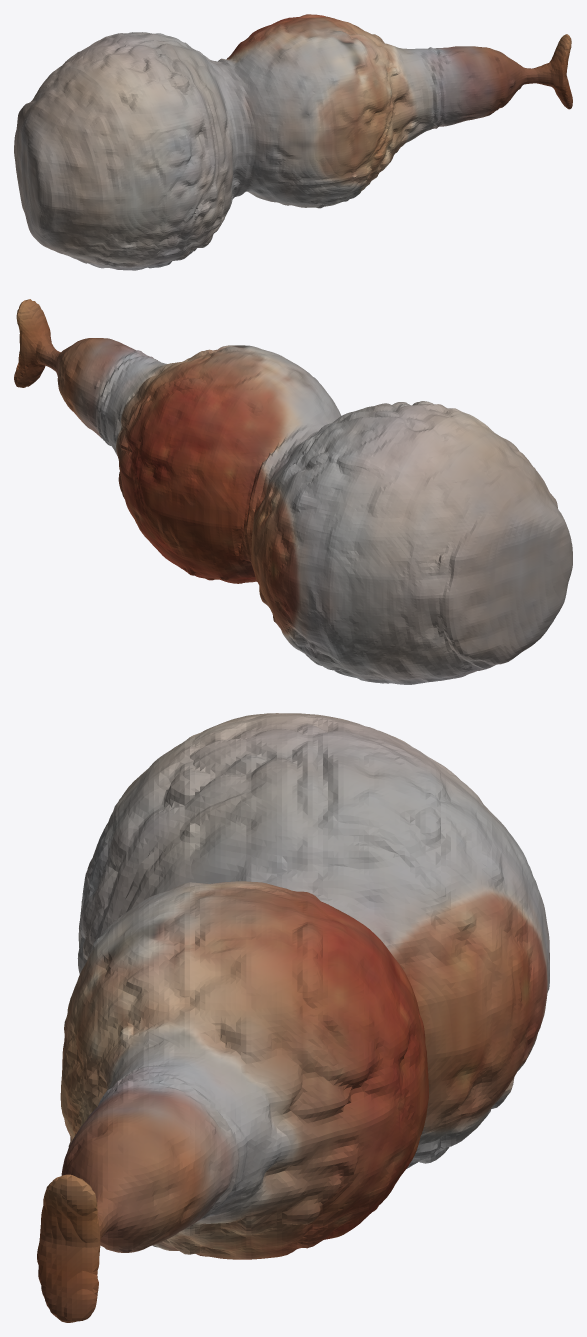
3 views of the same model, one above another, from view 1: azimuth 30°, elevation 25°; view 2: azimuth 150°, elevation 25°; view 3: azimuth 270°, elevation 25° (orthographic). The views are drawn at different scales.
Parts seen in each view (by area): view 1: geometry_0; view 2: geometry_0; view 3: geometry_0.
Part boxes in pixels (x1=…): geometry_0: x1=14, y1=14, x2=572, y2=270; geometry_0: x1=14, y1=299, x2=572, y2=684; geometry_0: x1=37, y1=713, x2=549, y2=1322.
Bounding box in the file's own units: 1.02 × 0.4212 × 0.4552.
